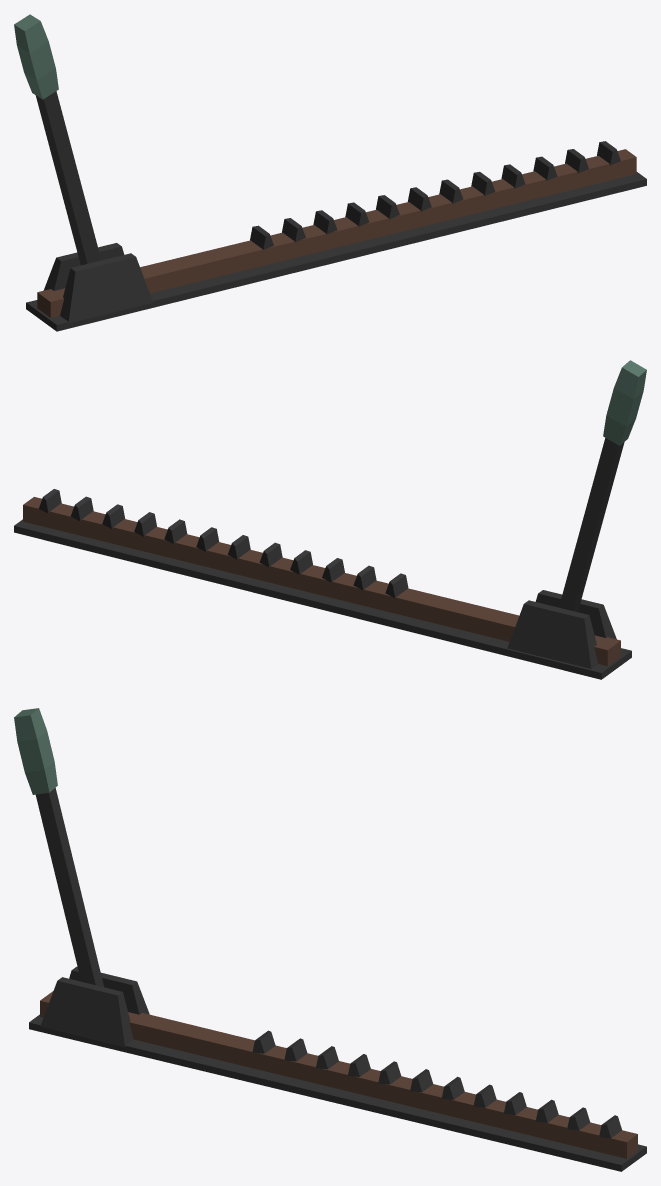
Rendered from Train Track Switcher.glb.
The picture shows the model from 3 angles, top to bottom: view 1: azimuth 30°, elevation 25°; view 2: azimuth 150°, elevation 25°; view 3: azimuth 330°, elevation 25°; orthographic projection.
Visible parts, largest first — view 1: Train Track switcher; view 2: Train Track switcher; view 3: Train Track switcher.
Boxes of the visible parts, <box> form: Train Track switcher: <box>14,14,646,331</box>; Train Track switcher: <box>14,360,646,679</box>; Train Track switcher: <box>14,708,646,1171</box>.
Size of what is drawn, in the model's own units: 3.22 by 1.53 by 0.278.
Materials: 1 (1 with a texture image).
